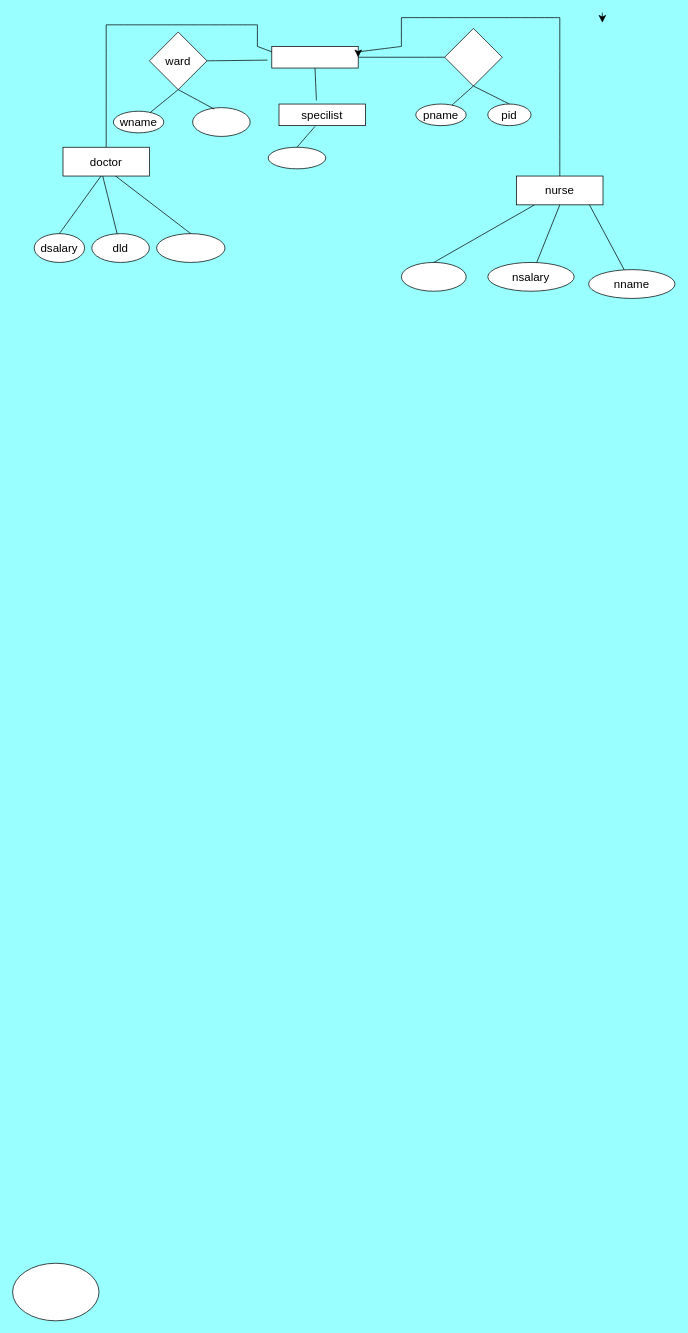
Image size: 688x1333. Some labels were removed from this diagram. Here are the shapes that lost their labels. From the top down, the box of each, then its label:
(271, 46, 358, 68): hosiptal
(444, 28, 502, 86): patients
(192, 107, 250, 136): wid
(267, 147, 326, 169): h bill
(156, 233, 225, 262): dname
(401, 262, 466, 291): nid
